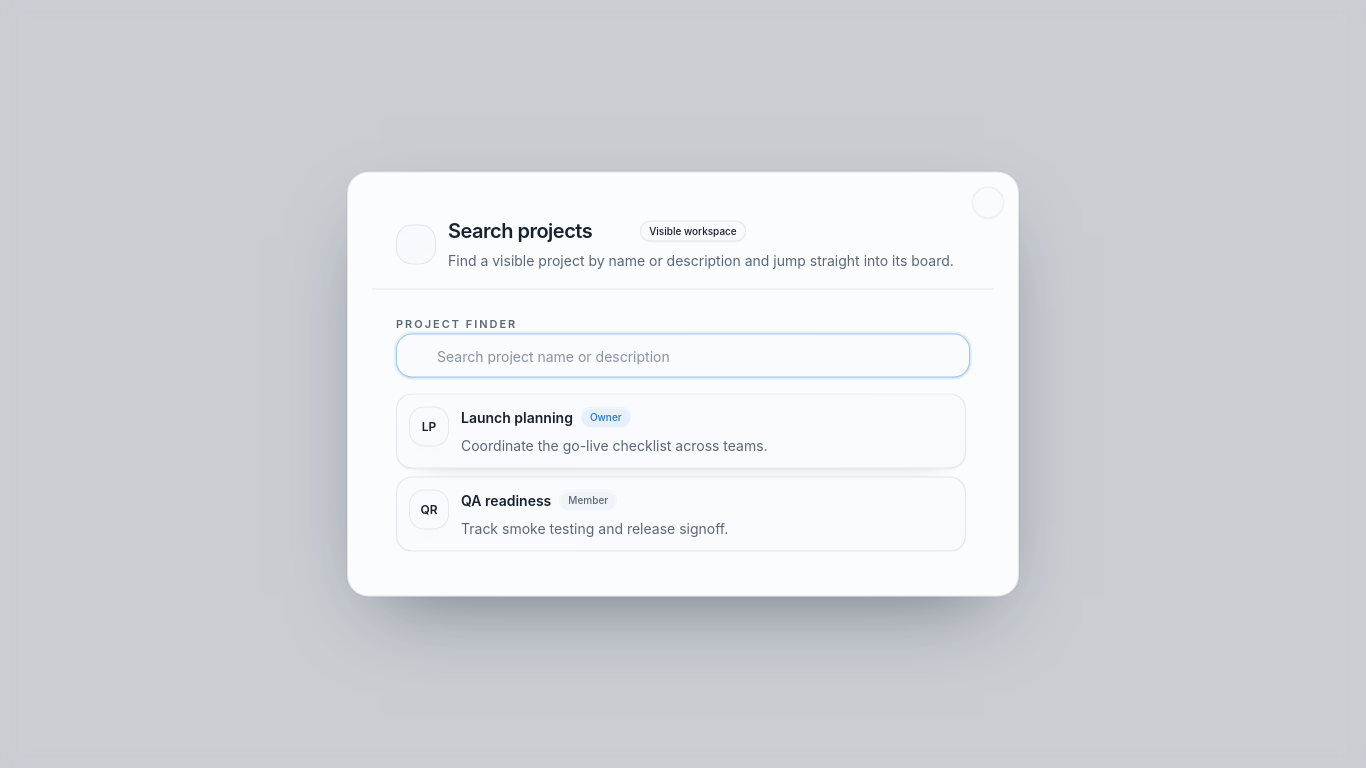
it: ProjectSearchDialog › renders sorted results and filters by name and description
This screenshot has width=1366, height=768.
Expected: the list item that starts with "Launch planning" is shown, left=396, top=394, right=966, bottom=468
Expected: the list item that starts with "QA readiness" is shown, left=396, top=476, right=966, bottom=552
Type "smoke" into the field labelled "Project finder" at (683, 356), box left=396, top=334, right=970, bottom=378
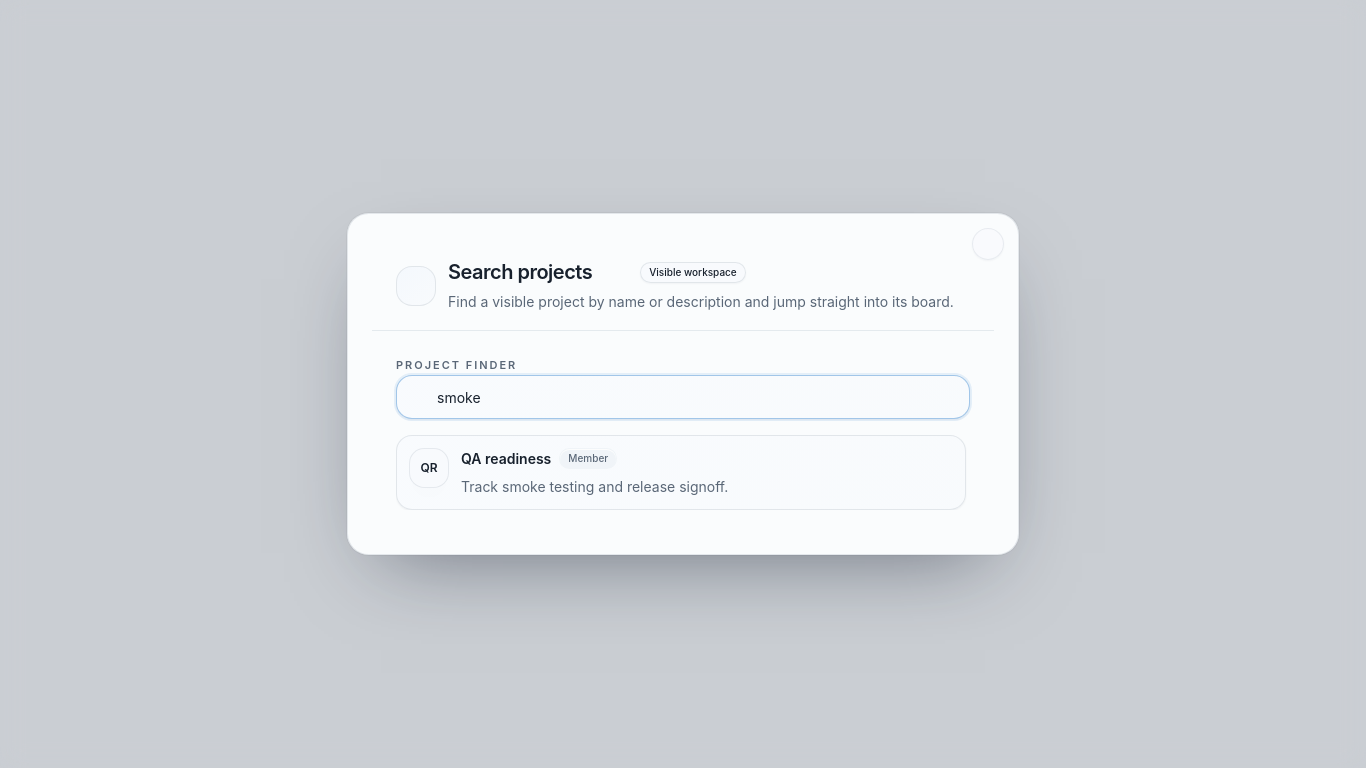
Expected: the list item shows "QA readiness", left=396, top=435, right=966, bottom=510
Result: the button "Launch planning" is gone
